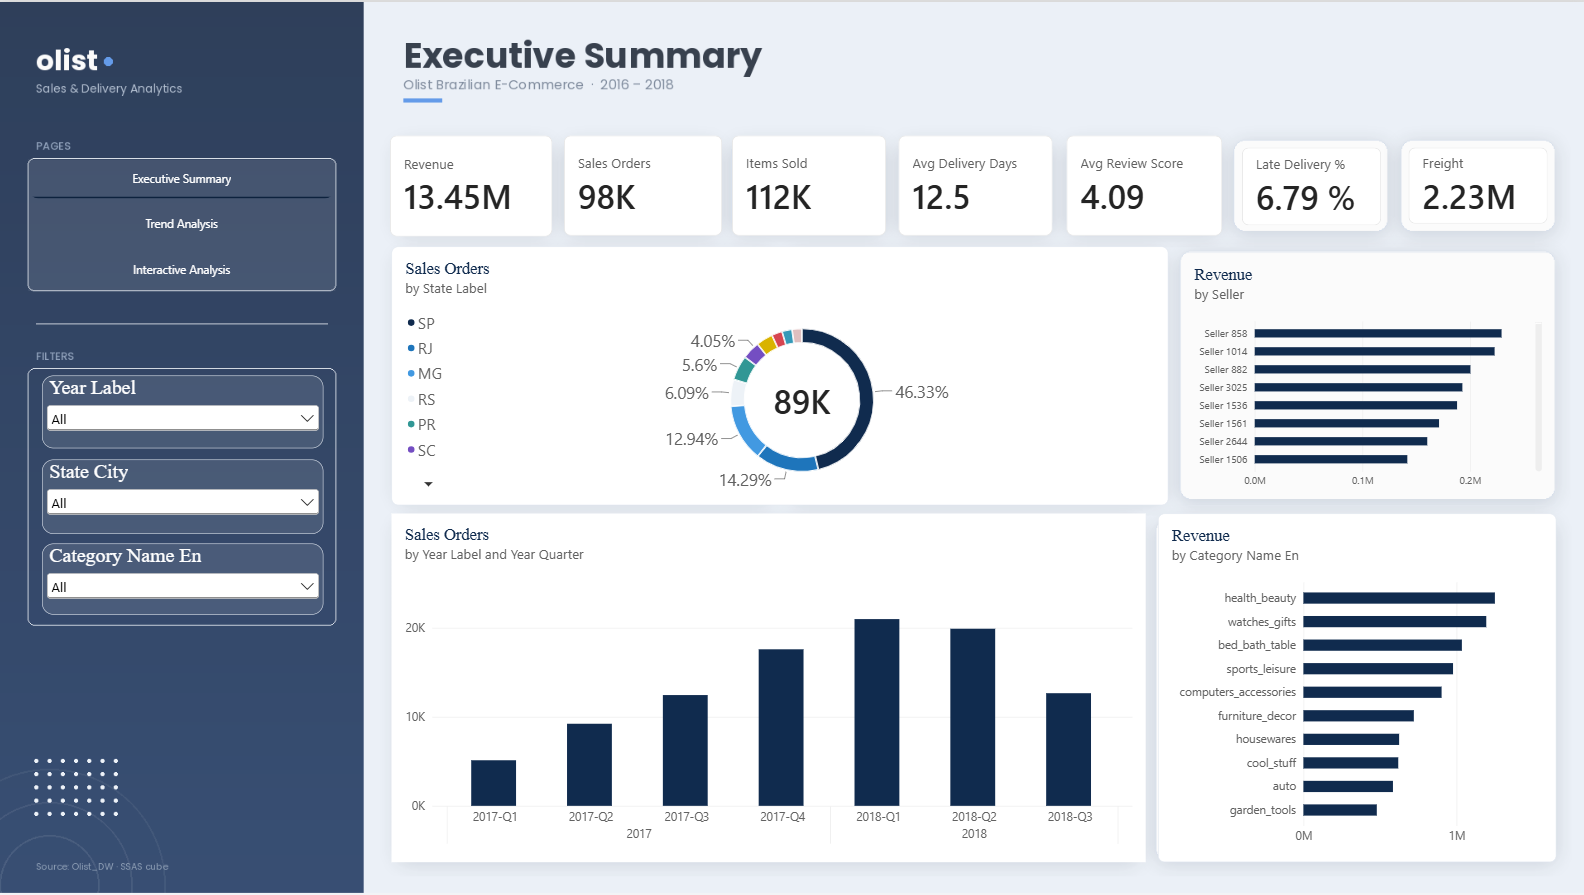

Layout of this report page (visuals, bound fields, positions):
{"tool":"powerbi","page":{"name":"Executive Summary","canvas":[1920,1080],"ordinal":0},"visuals":[{"type":"cardVisual","fields":{"Data":["Fact Sales.Revenue"]},"box":[472,162,196,122],"z":0},{"type":"cardVisual","fields":{"Data":["Fact Order Fulfilment.Sales Orders"]},"box":[681.8,161.8,191.8,121.8],"z":1000},{"type":"cardVisual","fields":{"Data":["Fact Sales.Items Sold"]},"box":[884.5,161.8,186.4,121.8],"z":2000},{"type":"cardVisual","fields":{"Data":["Measures.Avg Delivery Days"]},"box":[1086.4,161.8,186.4,121.8],"z":3000},{"type":"cardVisual","fields":{"Data":["Measures.Avg Review Score"]},"box":[1289.1,161.8,188.2,121.8],"z":4000},{"type":"lineStackedColumnComboChart","fields":{"Category":["Date.Hierarchy.Year Label","Date.Hierarchy.Year Quarter","Date.Hierarchy.Year Month"],"Y":["Fact Order Fulfilment.Sales Orders"]},"box":[472.5,618.8,911.2,421.2],"z":5000},{"type":"clusteredBarChart","fields":{"Category":["Product.Hierarchy.Category Name En"],"Y":["Fact Sales.Revenue"]},"box":[1398.6,618.6,481.4,421.4],"z":6000},{"type":"slicer","fields":{"Values":["Customer Location.Hierarchy.State City"]},"box":[50,552,340,90],"z":7000},{"type":"slicer","fields":{"Values":["Product.Hierarchy.Category Name En"]},"box":[50,654,340,86],"z":8000},{"type":"slicer","fields":{"Values":["Date.Hierarchy.Year Label"]},"box":[50,452,340,88],"z":9000},{"type":"pageNavigator","box":[35,190,370.8,158.3],"z":10000},{"type":"cardVisual","fields":{"Data":["Fact Sales.Freight"]},"box":[1702,176,168,92],"z":11000},{"type":"cardVisual","fields":{"Data":["Fact Order Fulfilment.Late Delivery %"]},"box":[1500,176,168,94],"z":12000},{"type":"donutChart","fields":{"Category":["Customer Location.Hierarchy.State Label","Payment Type.Hierarchy.Payment Group"],"Y":["Fact Order Fulfilment.Sales Orders"]},"box":[472.5,295,938.8,312.5],"z":13000},{"type":"clusteredBarChart","fields":{"Category":["Seller.Seller"],"Y":["Fact Sales.Revenue"]},"box":[1425.7,302.9,454.3,305.7],"z":14000}]}

Visuals, with their boxes on the page's 1920x1080 design canvas (x1, y1, x2, y2). These are canvas units, not pixel positions in the 1584x895 screenshot, which may show the page scaled, cropped or inside an application window:
cardVisual - Fact Sales.Revenue: x1=472, y1=162, x2=668, y2=284
cardVisual - Fact Order Fulfilment.Sales Orders: x1=682, y1=162, x2=874, y2=284
cardVisual - Fact Sales.Items Sold: x1=884, y1=162, x2=1071, y2=284
cardVisual - Measures.Avg Delivery Days: x1=1086, y1=162, x2=1273, y2=284
cardVisual - Measures.Avg Review Score: x1=1289, y1=162, x2=1477, y2=284
lineStackedColumnComboChart - Date.Hierarchy.Year Label x Date.Hierarchy.Year Quarter: x1=472, y1=619, x2=1384, y2=1040
clusteredBarChart - Product.Hierarchy.Category Name En x Fact Sales.Revenue: x1=1399, y1=619, x2=1880, y2=1040
slicer - Customer Location.Hierarchy.State City: x1=50, y1=552, x2=390, y2=642
slicer - Product.Hierarchy.Category Name En: x1=50, y1=654, x2=390, y2=740
slicer - Date.Hierarchy.Year Label: x1=50, y1=452, x2=390, y2=540
pageNavigator: x1=35, y1=190, x2=406, y2=348
cardVisual - Fact Sales.Freight: x1=1702, y1=176, x2=1870, y2=268
cardVisual - Fact Order Fulfilment.Late Delivery %: x1=1500, y1=176, x2=1668, y2=270
donutChart - Customer Location.Hierarchy.State Label x Payment Type.Hierarchy.Payment Group: x1=472, y1=295, x2=1411, y2=608
clusteredBarChart - Seller.Seller x Fact Sales.Revenue: x1=1426, y1=303, x2=1880, y2=609
